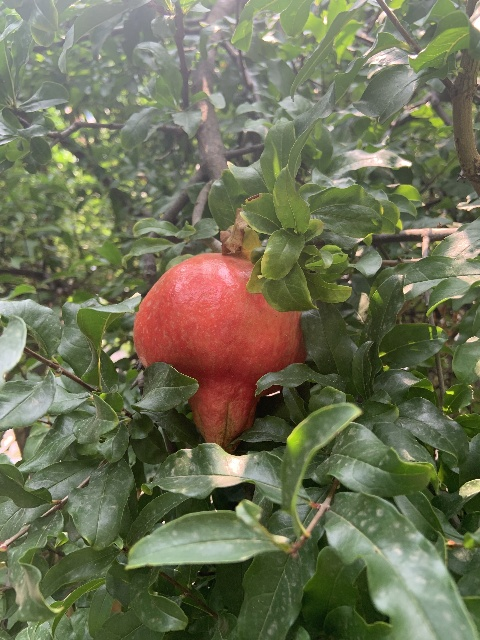ripe: (133, 252, 304, 452)
